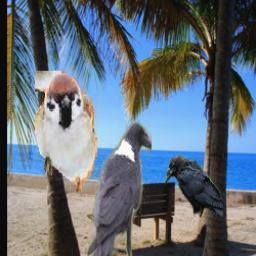Crow: (86, 120, 151, 256), (164, 155, 222, 219)
Sparrow: (34, 72, 96, 206)
